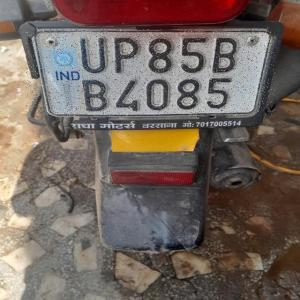Plate: (26, 29, 275, 116)
